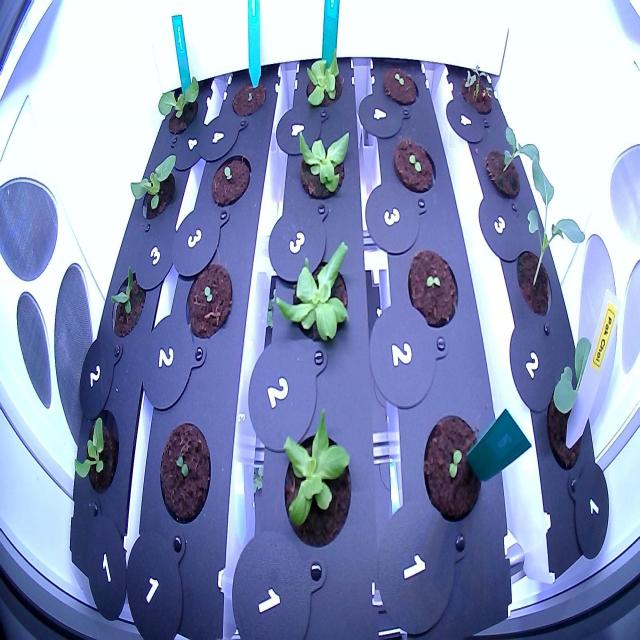germination: (418, 401, 490, 529), (156, 411, 214, 529), (405, 240, 461, 334), (180, 256, 235, 348), (208, 144, 253, 217), (392, 131, 439, 198), (457, 62, 498, 117), (380, 60, 422, 112), (229, 75, 271, 124)
young: (275, 396, 355, 558), (269, 232, 354, 356), (68, 389, 122, 506), (292, 126, 355, 206), (124, 146, 183, 226), (150, 68, 207, 144), (103, 257, 148, 344), (299, 47, 348, 118)
